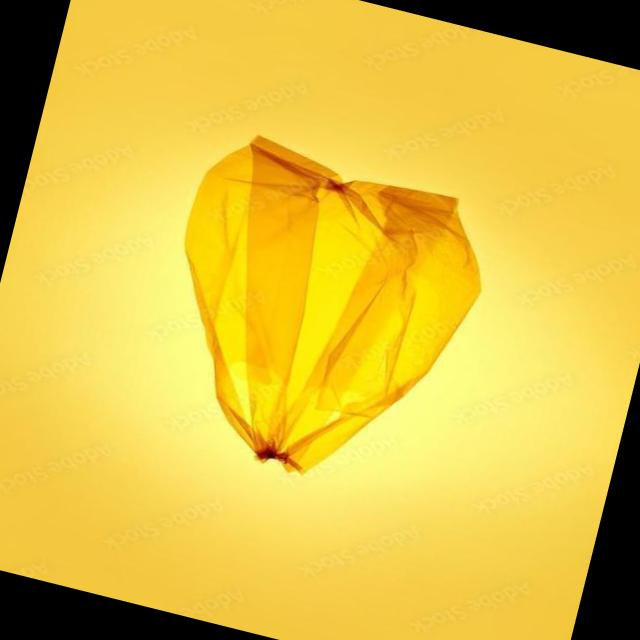KantongPlastik: (132, 122, 506, 510)
